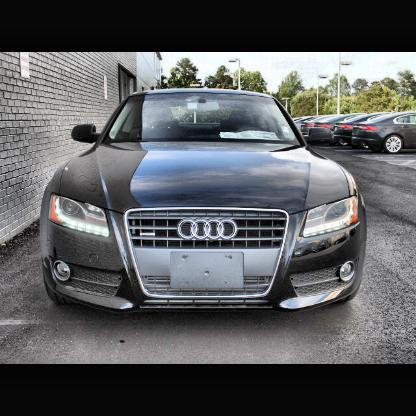Audi A5 Coupe 2012: (40, 89, 368, 318)
